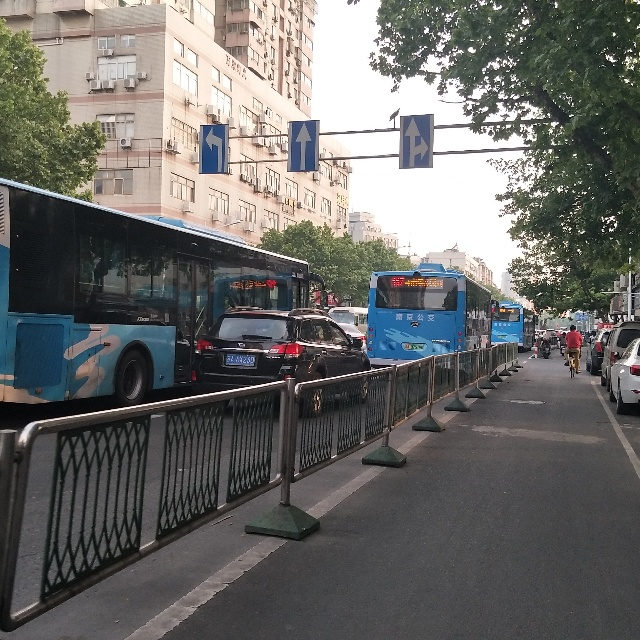left: (201, 127, 228, 168)
straight: (290, 121, 315, 170)
